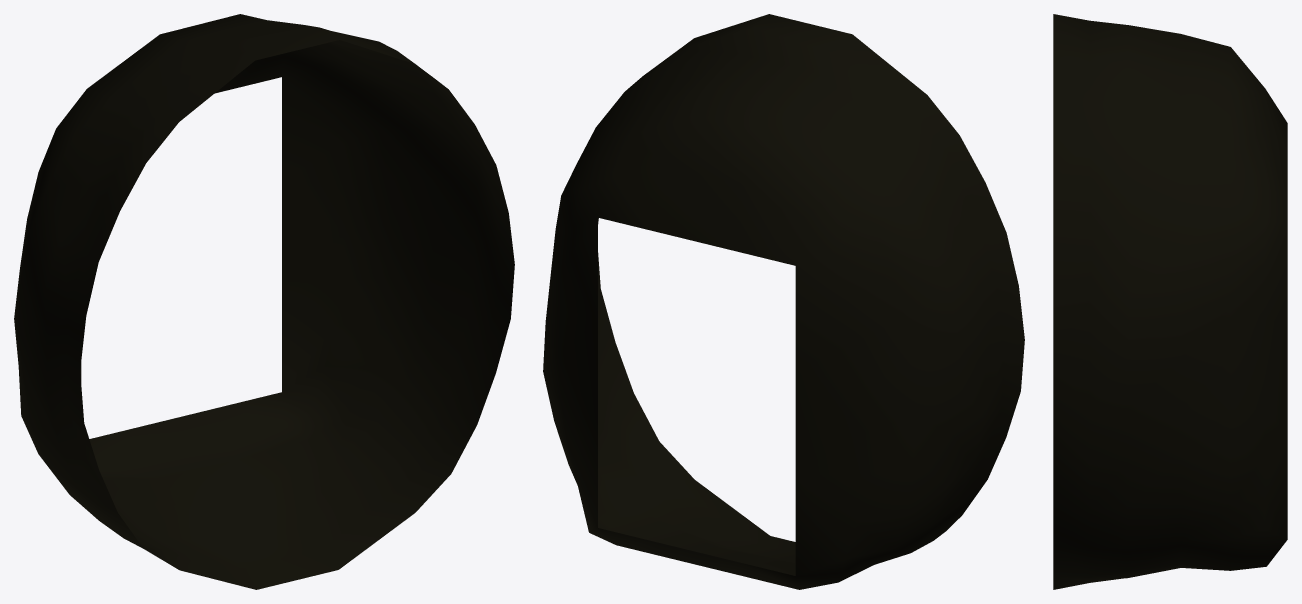
File: tunnel_theta_doorway.dae
3 renders of one model, left to right at view 1: azimuth 30°, elevation 25°; view 2: azimuth 150°, elevation 25°; view 3: azimuth 270°, elevation 25°, orthographic. The views are drawn at different scales.
Parts seen in each view (by area): view 1: doorway; view 2: doorway; view 3: doorway.
Part boxes in pixels (<box>): doorway: <box>14,14,514,589</box>; doorway: <box>543,14,1024,589</box>; doorway: <box>1053,14,1287,589</box>.
Bounding box in the file's own units: 4.36 × 5.04 × 2.
